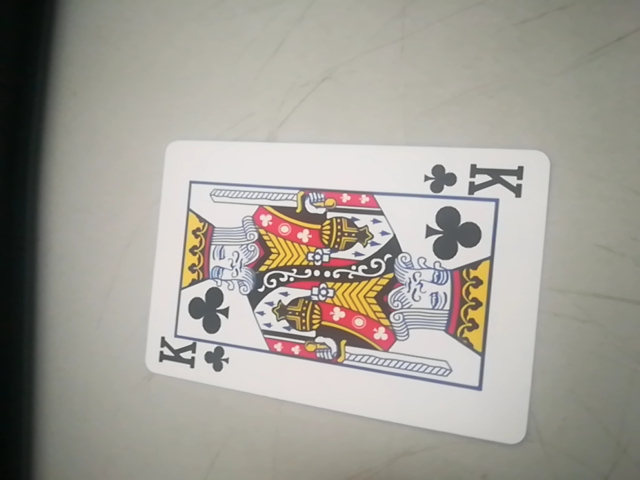mh k: (143, 140, 550, 443)
